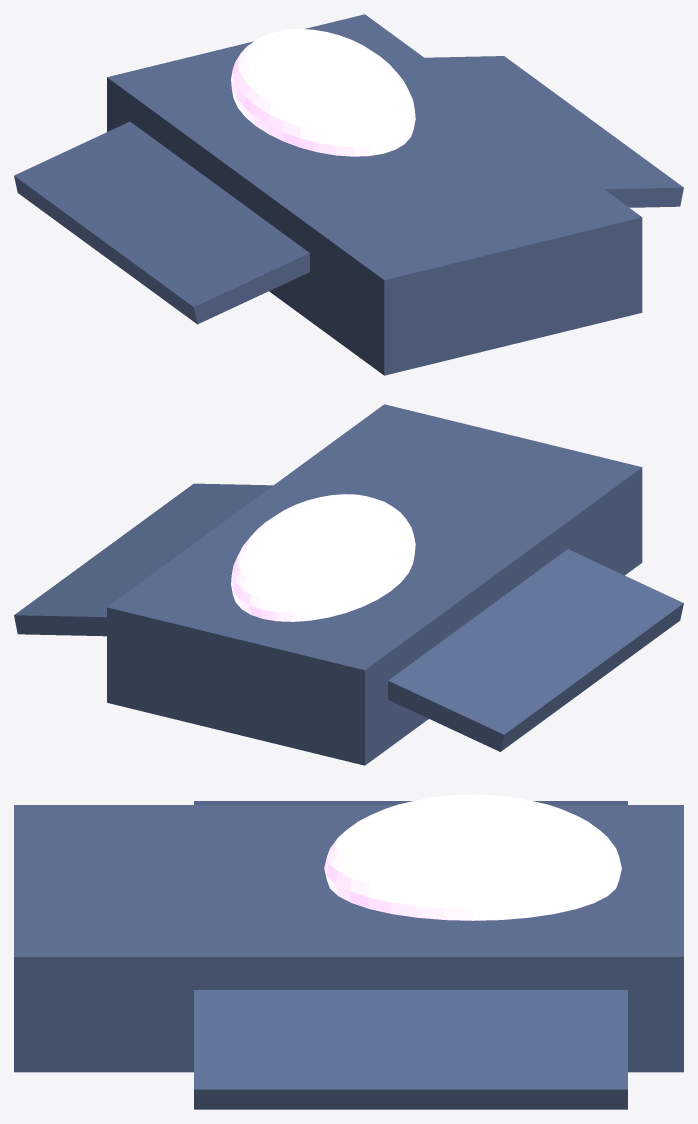
File: striker.glb
3 renders of one model, top to bottom at view 1: azimuth 30°, elevation 25°; view 2: azimuth 150°, elevation 25°; view 3: azimuth 270°, elevation 25°, orthographic. The views are drawn at different scales.
Parts seen in each view (by area): view 1: Cube, Cube.002, Sphere, Cube.001; view 2: Cube, Cube.002, Sphere, Cube.001; view 3: Cube, Cube.001, Sphere, Cube.002.
Boxes of the visible parts, bbox=[...] form: Cube: bbox=[107, 14, 642, 375]; Cube.002: bbox=[14, 121, 309, 324]; Sphere: bbox=[231, 29, 415, 156]; Cube.001: bbox=[425, 56, 683, 207]; Cube: bbox=[107, 404, 642, 765]; Cube.002: bbox=[388, 549, 683, 751]; Sphere: bbox=[231, 494, 415, 621]; Cube.001: bbox=[14, 483, 272, 636]; Cube: bbox=[14, 805, 683, 1072]; Cube.001: bbox=[194, 990, 627, 1109]; Sphere: bbox=[324, 794, 621, 920]; Cube.002: bbox=[194, 801, 627, 804].
Bounding box in the file's own units: 2.2 × 0.675 × 2.16.
